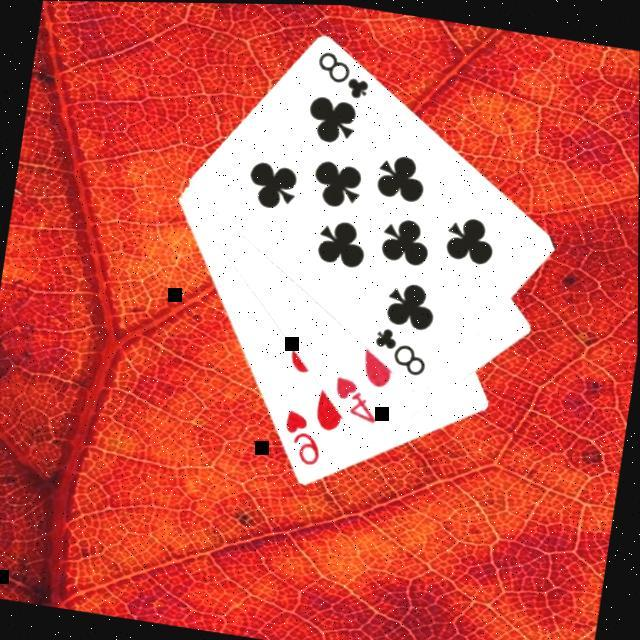4H: (328, 374, 386, 429)
8C: (310, 48, 378, 106), (369, 323, 435, 382)
9H: (277, 407, 330, 472)
